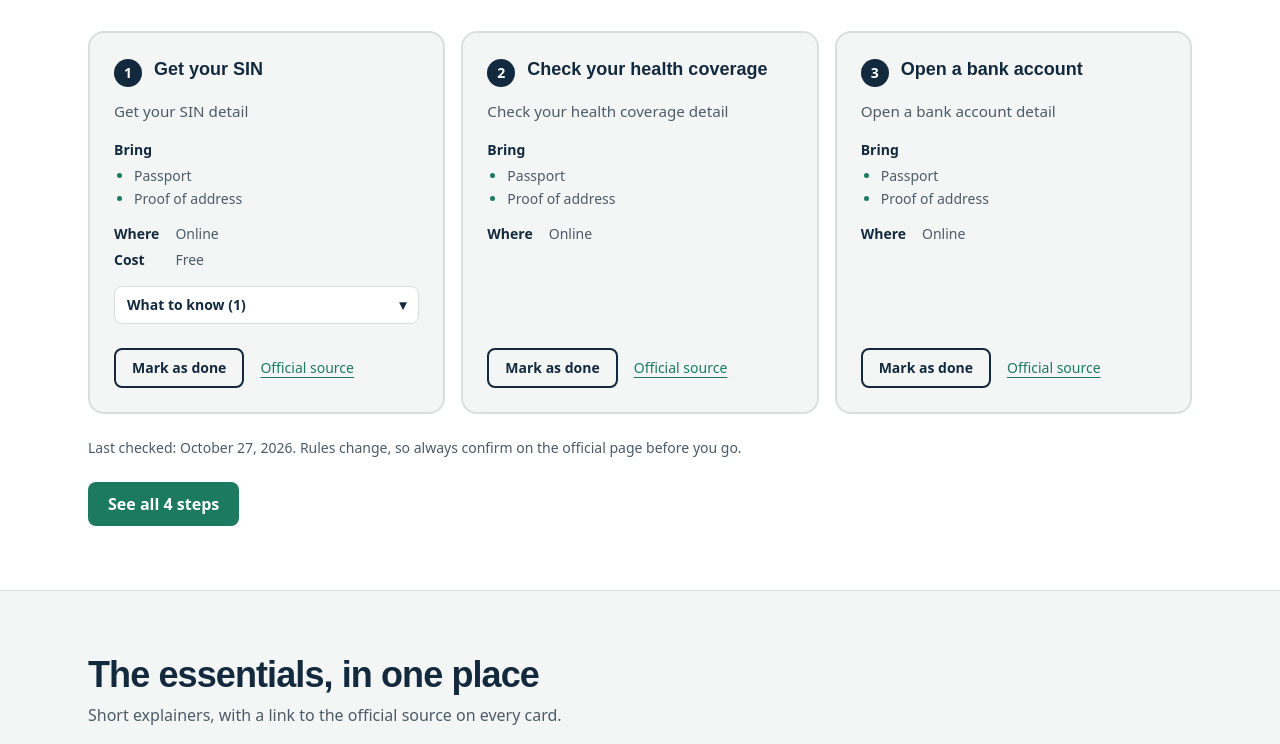
Scenario: HomePage › tracks progress and remembers it
(page scrolled)
Click the button "Mark as done" below "Get your SIN detail". click: coordinates (179, 368)
box: [114, 348, 244, 388]
(page scrolled)
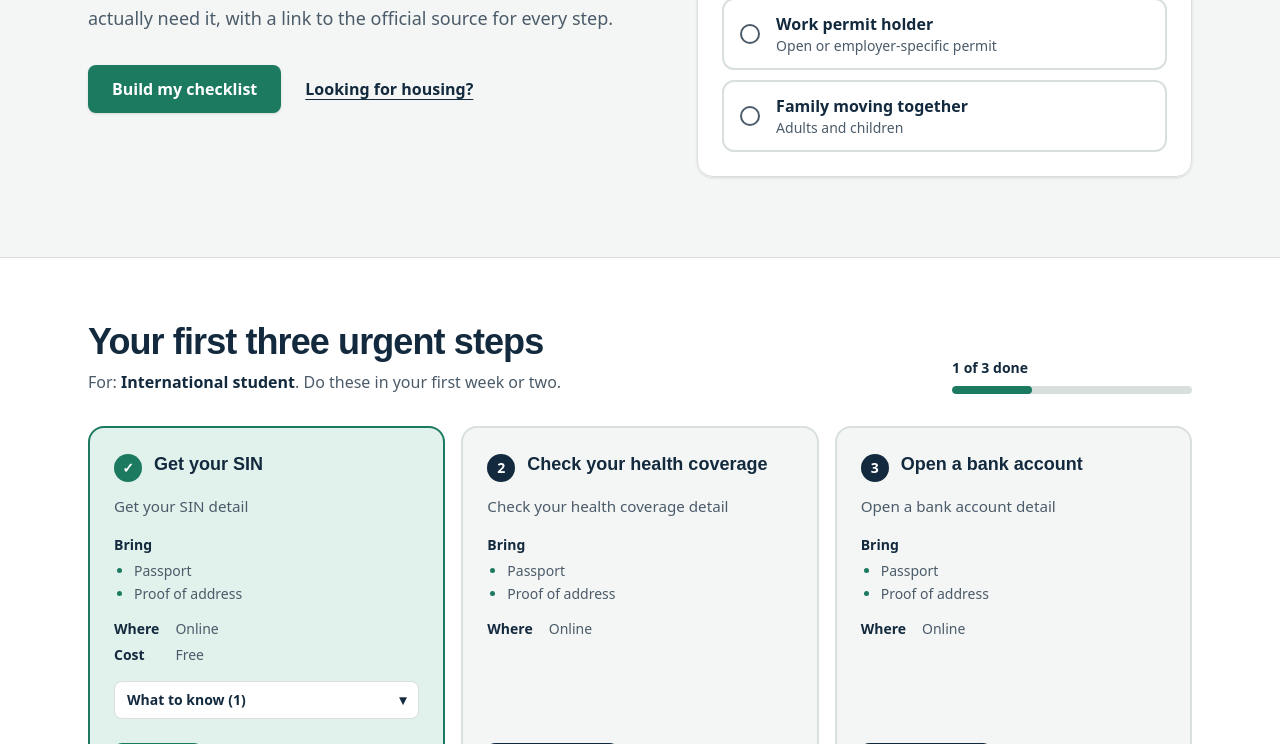
Expected: the text "1 of 3 done" is shown, [952, 358, 1028, 377]
